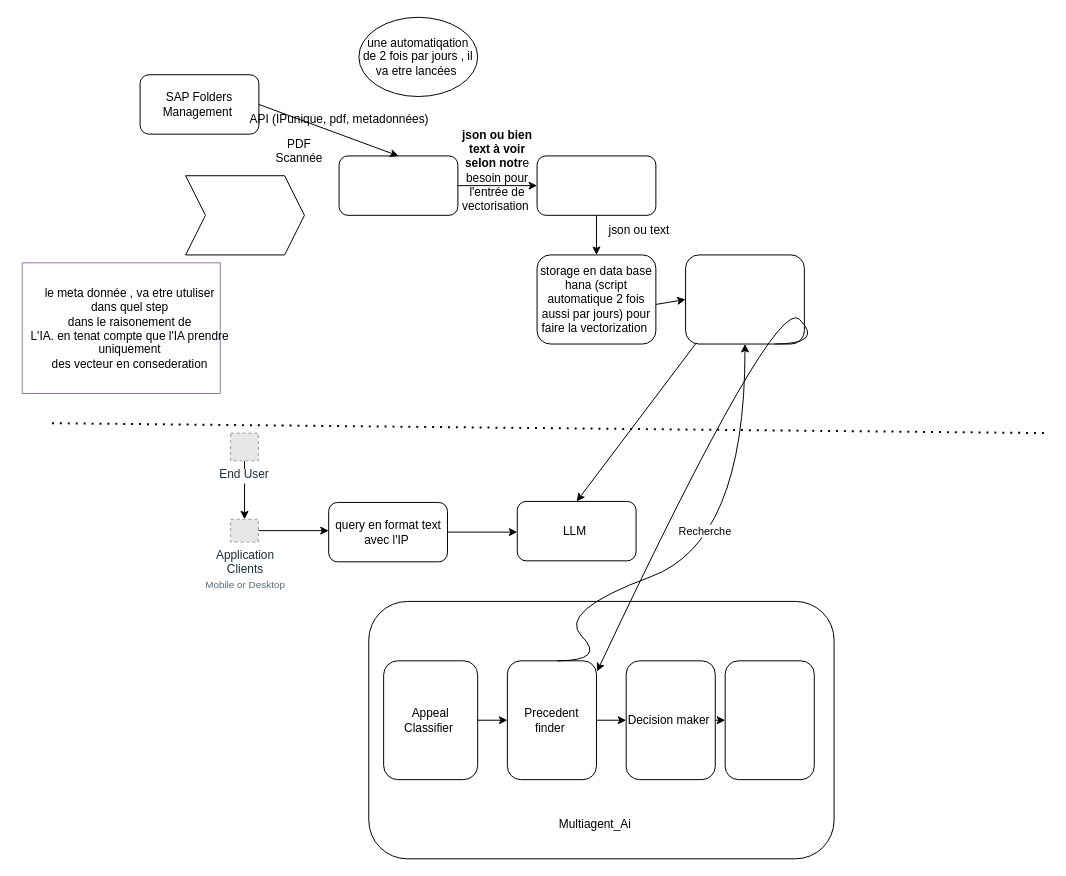
Image size: 1066x876. Some labels were removed from this diagram. Grey dashed boxes stand in for pictures. The shapes that lost their labels are listed below. From the top down, each one's centre as x and y in pixels, then its label:
[398,185]: OCR python script
[596,185]: stocker en hana db en tableaux ( pour avoir toujours le output text d'ocr)
[244,215]: pdf, meta donnée(à choisir)
[744,299]: base de donneés vectorielle
[769,720]: Legal Writer
